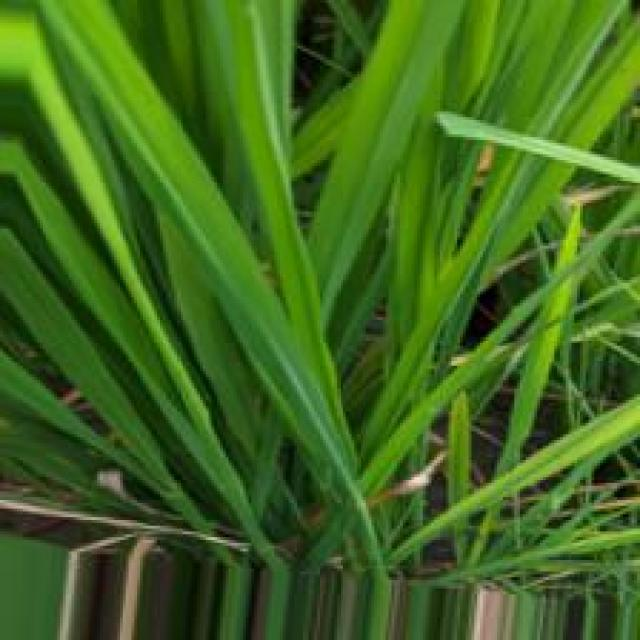HealthyLeaf: (123, 112, 261, 299), (329, 67, 425, 209)
